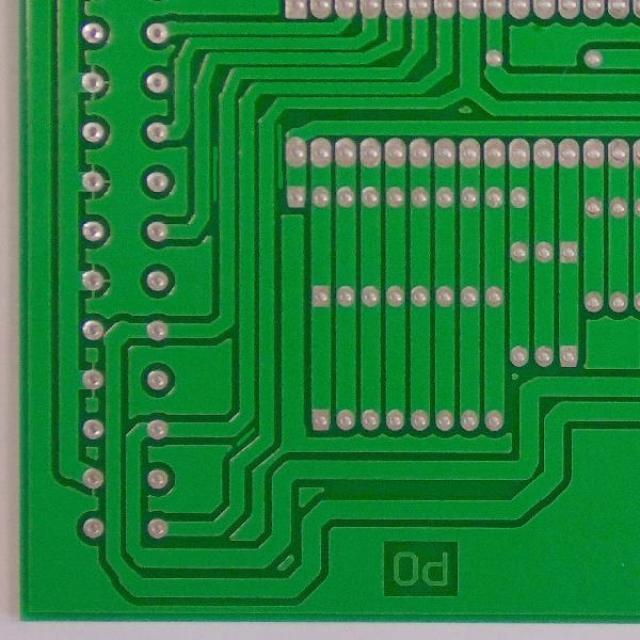Spurious_Cooper: (272, 120, 286, 194), (207, 142, 221, 204), (230, 422, 259, 450)
